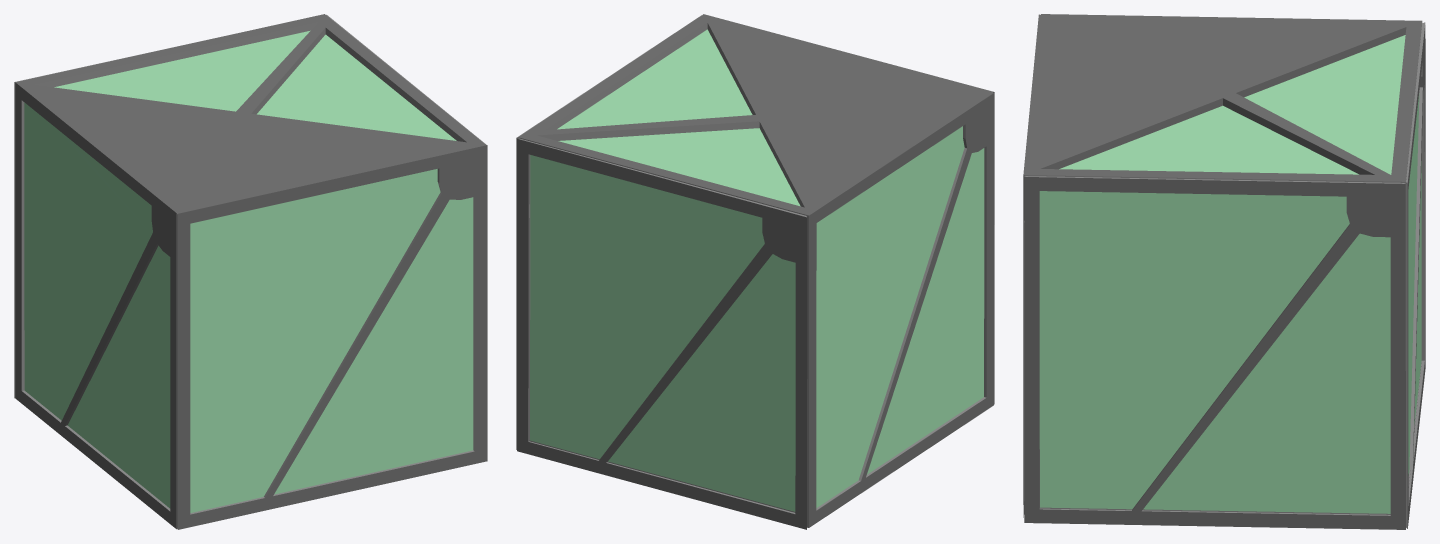
File: cubo.fbx
3 views of the same model, side by side, from view 1: azimuth 30°, elevation 25°; view 2: azimuth 150°, elevation 25°; view 3: azimuth 270°, elevation 25° (orthographic). The views are drawn at different scales.
Parts seen in each view (by area): view 1: pasted__pasted__pasted__pasted__pasted__pasted__polySurface6; view 2: pasted__pasted__pasted__pasted__pasted__pasted__polySurface6; view 3: pasted__pasted__pasted__pasted__pasted__pasted__polySurface6.
Boxes of the visible parts, left/top/right/bottom form: pasted__pasted__pasted__pasted__pasted__pasted__polySurface6: left=14, top=14, right=487, bottom=529; pasted__pasted__pasted__pasted__pasted__pasted__polySurface6: left=516, top=14, right=994, bottom=529; pasted__pasted__pasted__pasted__pasted__pasted__polySurface6: left=1023, top=14, right=1425, bottom=529.
Bounding box in the file's own units: 7.87 × 7.53 × 7.91.
